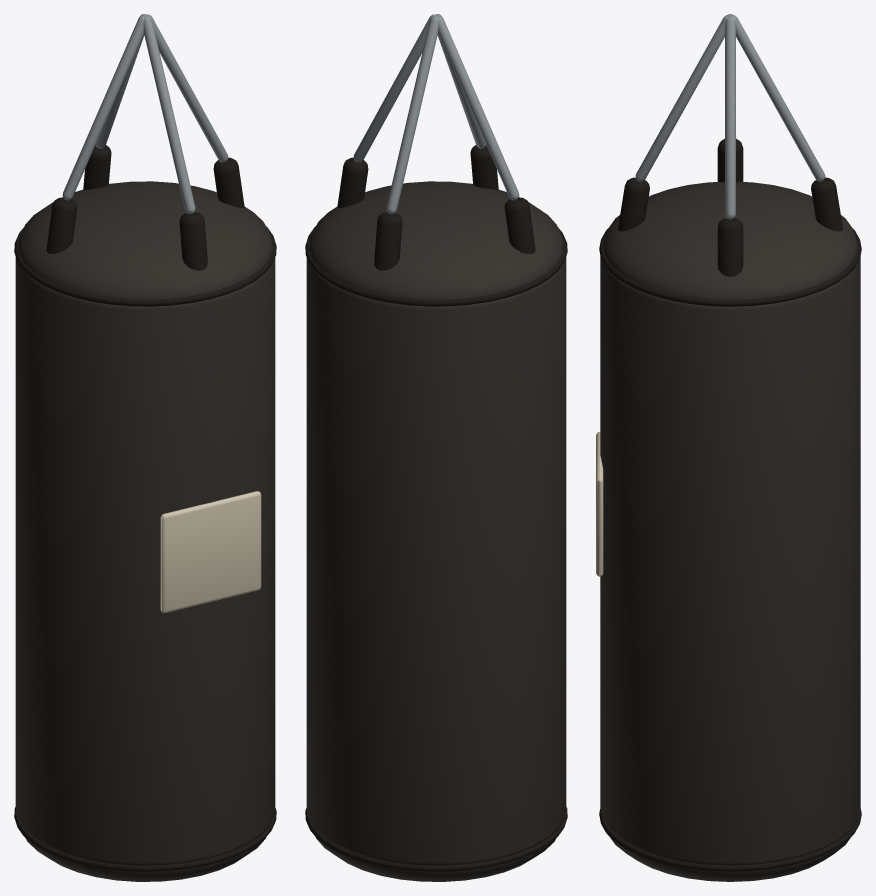
The model's file is heavy_bag.glb.
3 views of the same model, side by side, from view 1: azimuth 30°, elevation 25°; view 2: azimuth 150°, elevation 25°; view 3: azimuth 270°, elevation 25° (orthographic).
Parts seen in each view (by area): view 1: bag body, rounded end cap.001, stitched label, suspension chain.003, welt seam.001, suspension chain.002, rounded end cap, welt seam, suspension chain, leather hanger.003, leather hanger.002, leather hanger (+2 smaller); view 2: bag body, rounded end cap.001, suspension chain.001, welt seam.001, suspension chain.002, rounded end cap, welt seam, suspension chain, leather hanger.001, leather hanger.002, leather hanger, leather hanger.003 (+1 smaller); view 3: bag body, rounded end cap.001, welt seam.001, suspension chain, rounded end cap, suspension chain.001, suspension chain.003, welt seam, leather hanger, leather hanger.001, leather hanger.003, stitched label (+1 smaller).
Boxes of the visible parts, x1,y1,x2,y2 form: bag body: [15, 257, 275, 865]; rounded end cap.001: [18, 181, 272, 299]; stitched label: [160, 491, 261, 612]; suspension chain.003: [143, 16, 195, 214]; welt seam.001: [14, 226, 276, 306]; suspension chain.002: [62, 15, 144, 200]; rounded end cap: [25, 838, 265, 881]; welt seam: [14, 807, 276, 871]; suspension chain: [145, 14, 228, 162]; leather hanger.003: [179, 212, 207, 270]; leather hanger.002: [46, 197, 77, 254]; leather hanger: [213, 157, 244, 207]; bag body: [306, 257, 566, 865]; rounded end cap.001: [309, 181, 563, 299]; suspension chain.001: [386, 16, 438, 214]; welt seam.001: [305, 226, 567, 306]; suspension chain.002: [437, 15, 519, 200]; rounded end cap: [316, 838, 556, 881]; welt seam: [305, 807, 567, 871]; suspension chain: [353, 14, 436, 162]; leather hanger.001: [374, 212, 402, 270]; leather hanger.002: [504, 197, 535, 254]; leather hanger: [337, 157, 368, 207]; leather hanger.003: [470, 145, 498, 190]; bag body: [600, 256, 860, 865]; rounded end cap.001: [603, 182, 857, 299]; welt seam.001: [599, 229, 861, 306]; suspension chain: [725, 16, 735, 219]; rounded end cap: [610, 837, 850, 881]; suspension chain.001: [731, 15, 825, 181]; suspension chain.003: [635, 15, 729, 181]; welt seam: [599, 808, 861, 871]; leather hanger: [717, 218, 743, 276]; leather hanger.001: [811, 177, 843, 231]; leather hanger.003: [618, 177, 649, 231]; stitched label: [596, 432, 603, 576].
Bounding box in the file's own units: 0.434 × 1.53 × 0.439.
